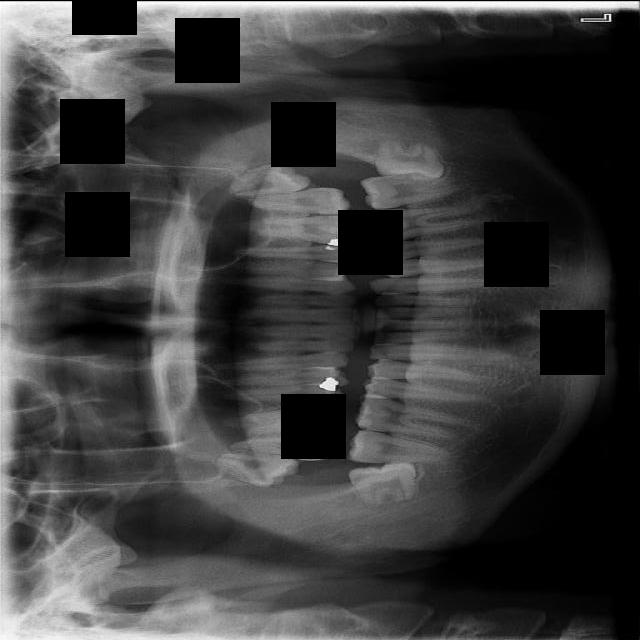3M ESPE Implant: (213, 443, 303, 492)
52: (353, 390, 402, 436), (369, 203, 416, 245), (292, 398, 343, 435), (290, 428, 336, 463), (309, 214, 354, 245), (299, 379, 347, 405), (298, 364, 349, 387), (313, 242, 360, 262), (371, 191, 378, 194), (362, 426, 367, 428)
73: (595, 22, 600, 26)
BioHorizons Implant: (228, 179, 351, 216)
BioLife Implant: (224, 157, 313, 203)
Biomet 3i Implant: (376, 136, 443, 183)
Blue Sky Bio Implant: (359, 170, 473, 211)
Caries: (208, 431, 335, 461)
Implant: (347, 428, 458, 470)
Keystone Dental Implant: (346, 457, 421, 509)
